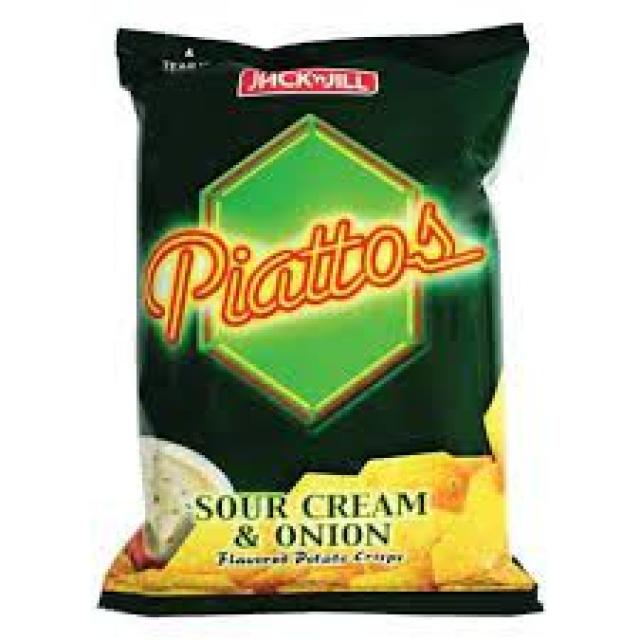junkfood wrapper: (100, 27, 541, 614)
